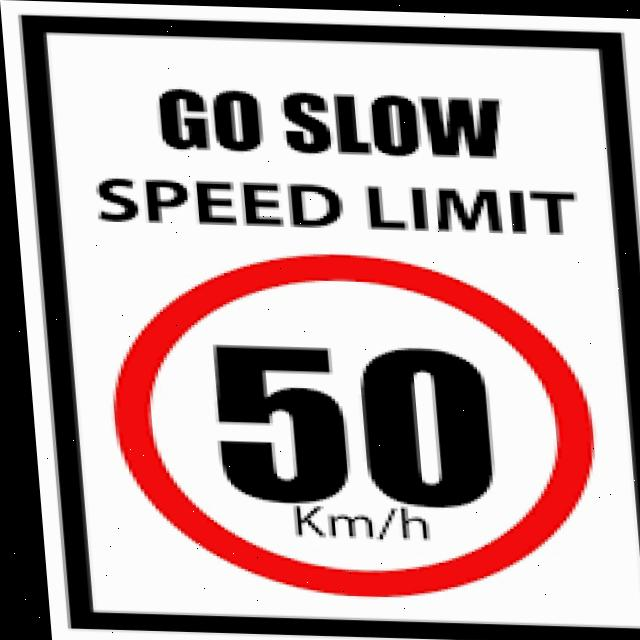Speed limit 50: (91, 243, 602, 604)
